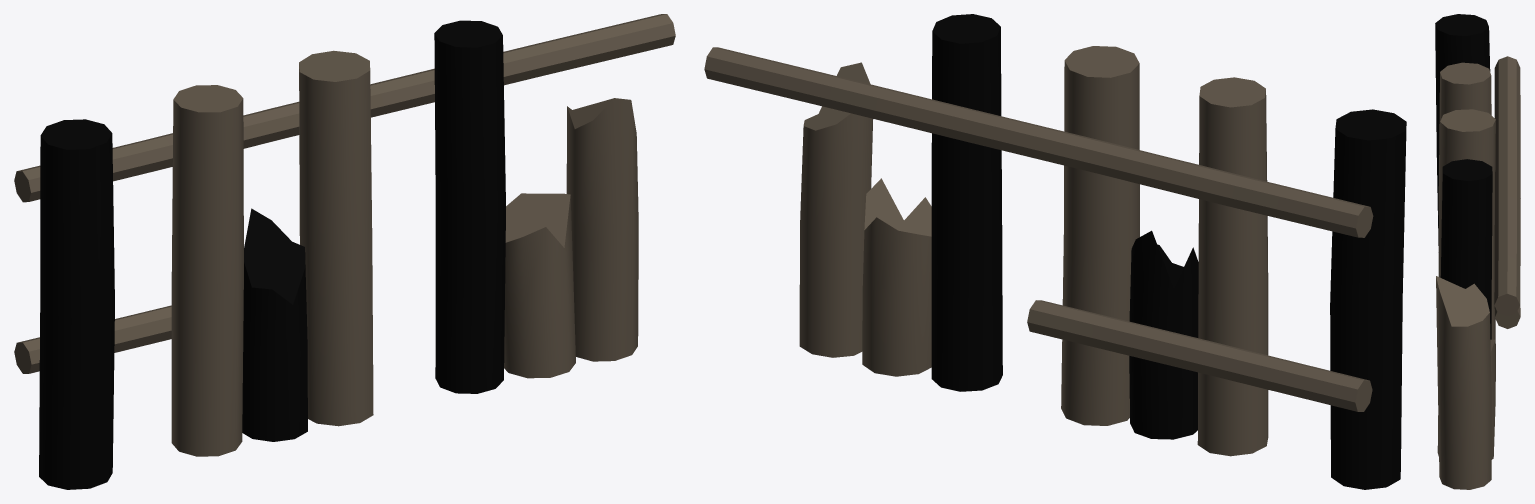
Rendered from bruestung_holz_10_2m_kaputt.glb.
3 renders of one model, left to right at view 1: azimuth 30°, elevation 25°; view 2: azimuth 150°, elevation 25°; view 3: azimuth 270°, elevation 25°, orthographic. The views are drawn at different scales.
Visible parts, largest first — view 1: bruestung_holz_10_2m_kaputt; view 2: bruestung_holz_10_2m_kaputt; view 3: bruestung_holz_10_2m_kaputt.
Part boxes in pixels (box(x1,y1,x2,y2)): bruestung_holz_10_2m_kaputt: box(14, 14, 675, 489); bruestung_holz_10_2m_kaputt: box(704, 14, 1406, 489); bruestung_holz_10_2m_kaputt: box(1435, 14, 1520, 489).
Bounding box in the file's own units: 1.98 × 1.01 × 0.2988.
